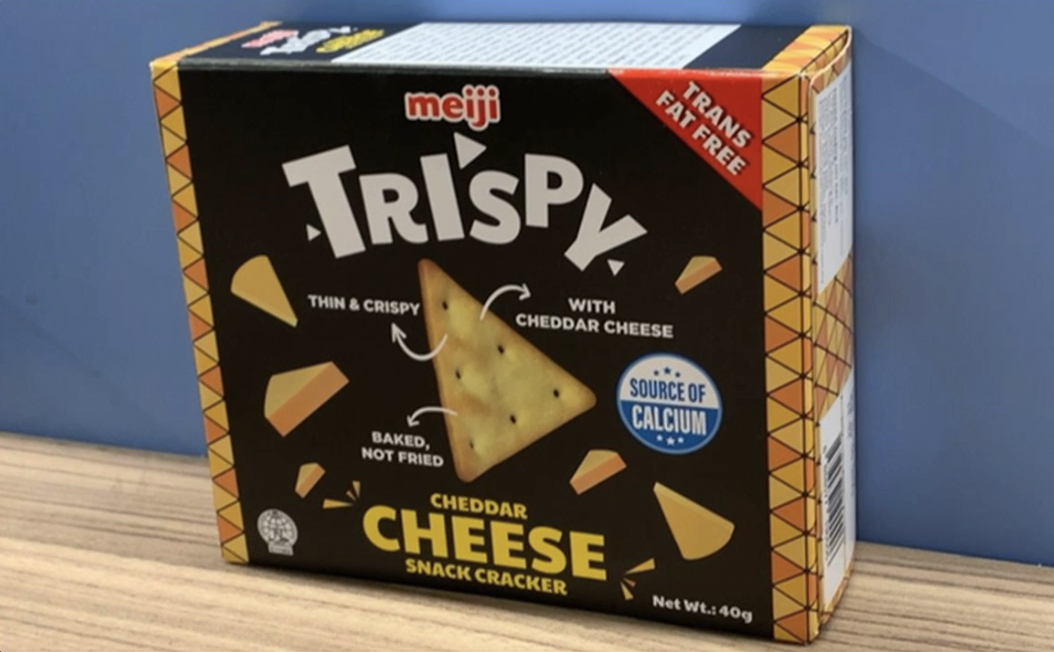crackers_50g: (200, 78, 772, 579)
